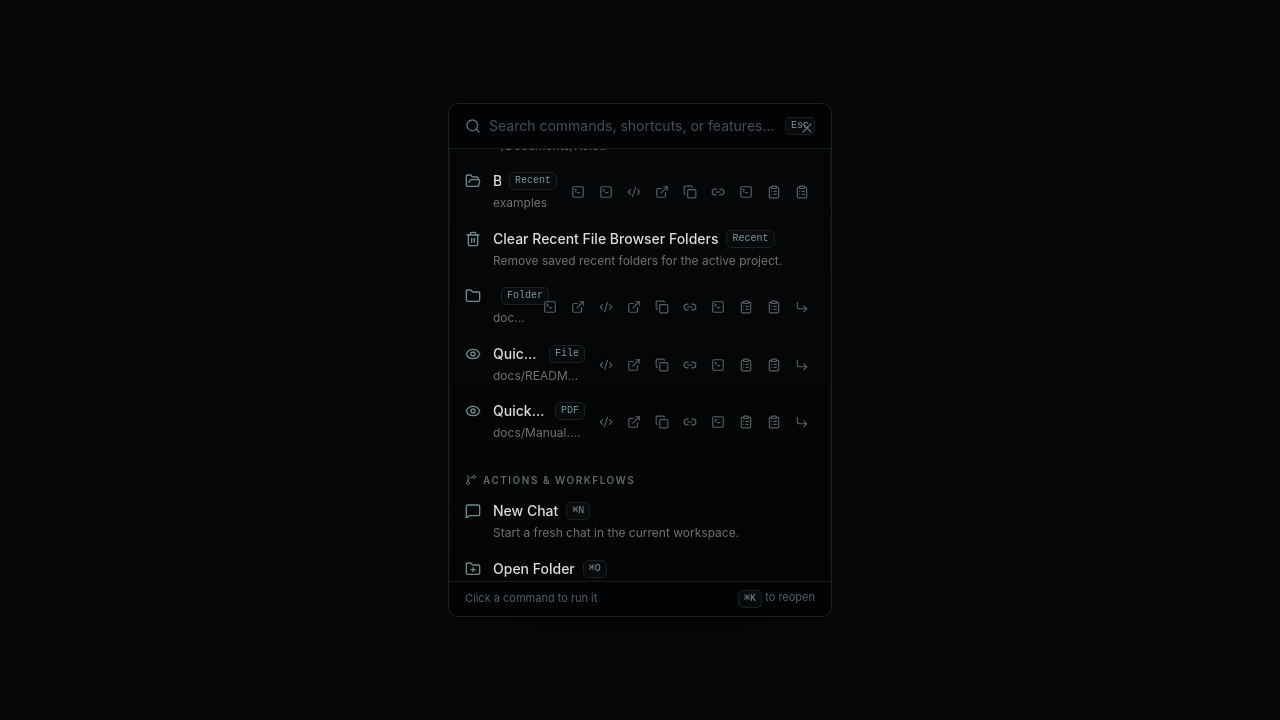
Test: CommandsPalette › shows recovery guidance when a file-browser editor handoff fails
(page scrolled)
Click the button named "Open README.md in editor" at (606, 365), box [593, 352, 619, 378]
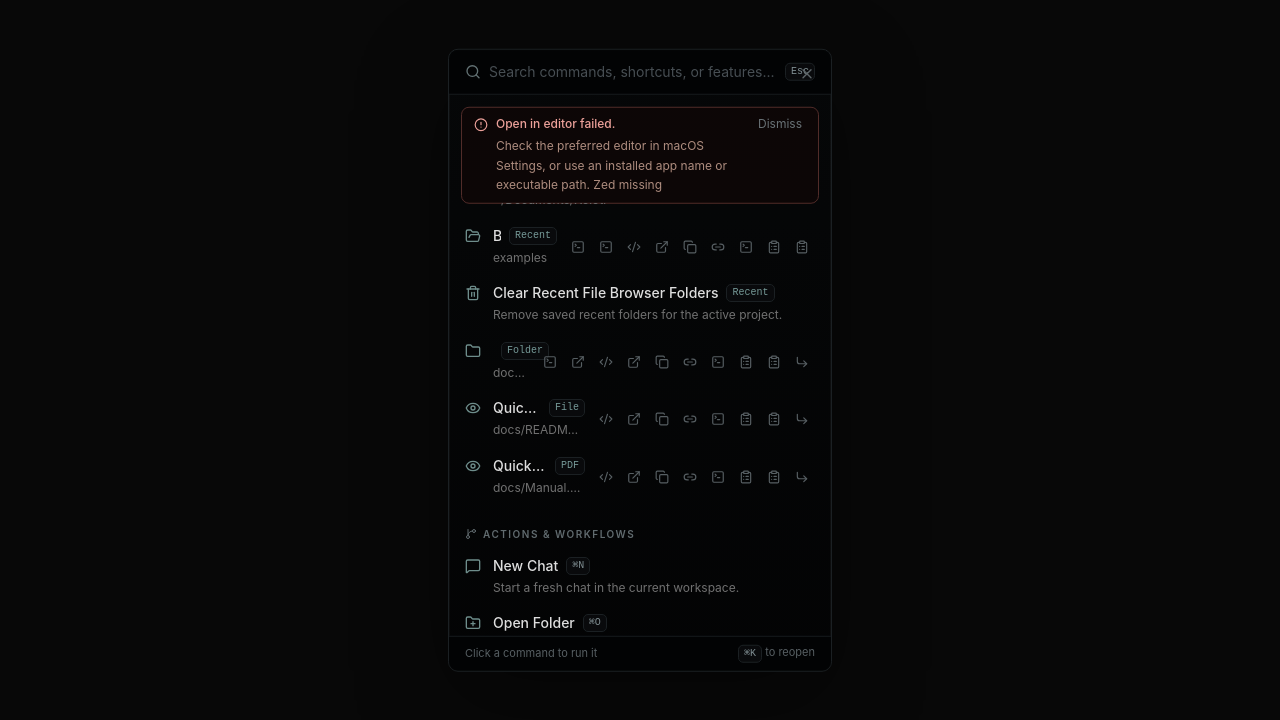
Expected: the text "Open in editor failed." is shown, [496, 116, 615, 131]
Expected: the text "Zed missing" is shown, [496, 138, 727, 192]
